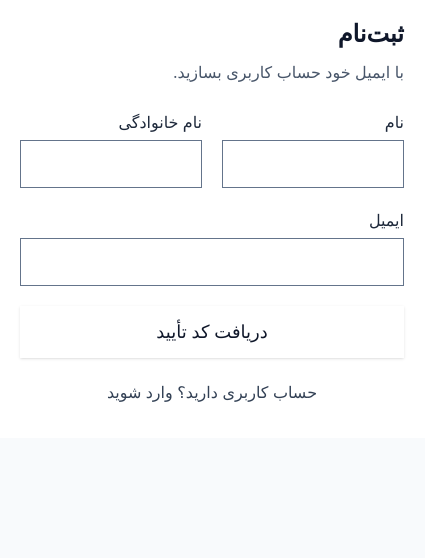
RegisterFlow › a 429 on resend holds «ارسال مجدد کد» for retry_after seconds
Later steps or results of the test are not shown.
Type "نیما" into the field labelled "نام" at (313, 164), box [223,141,403,187]
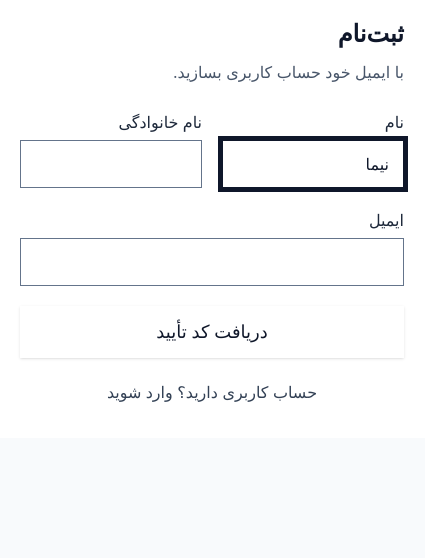
Type "رضایی" into the field labelled "نام خانوادگی" at (111, 164), box [21,141,201,187]
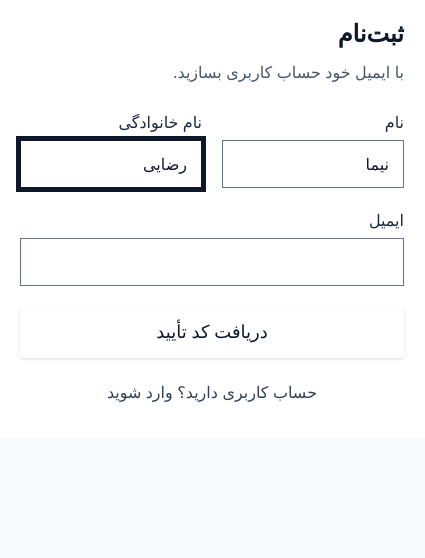
Type "new@example.com" into the field labelled "ایمیل" at (212, 262), box [21,239,403,285]
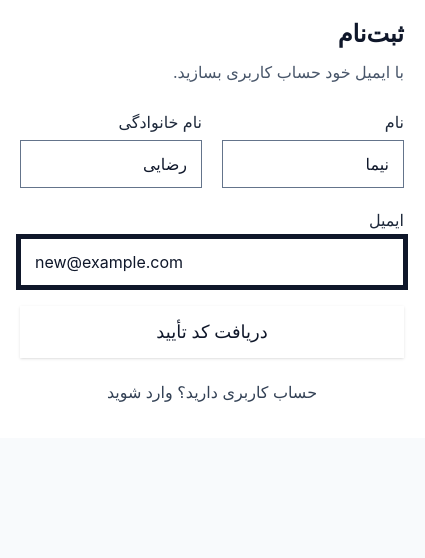
Click the button "دریافت کد تأیید" at (212, 332), box [20,306,404,358]
Wait 120000 ms
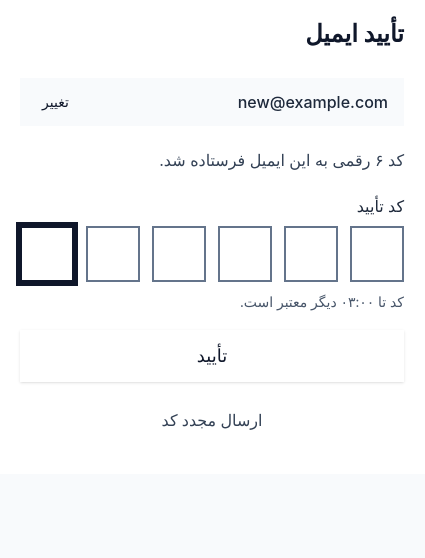
Check: the heading "تأیید ایمیل" is shown, box [305,19,404,48]
Click the button "ارسال مجدد کد" at (212, 420), box [20,398,404,442]
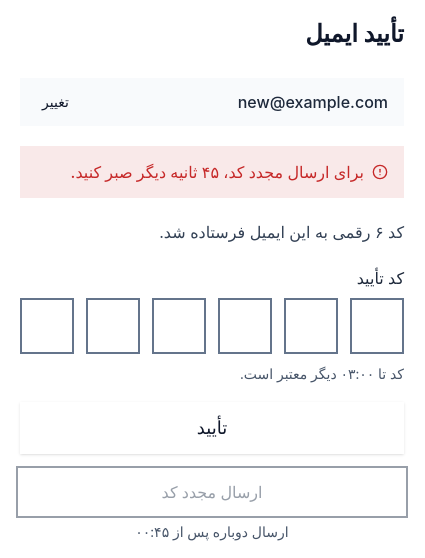
Check: the message reads "برای ارسال مجدد کد، ۴۵ ثانیه دیگر صبر کنید.", box [70,162,364,182]
Click the button "ارسال مجدد کد" at (212, 492), box [20,470,404,514]
Wait 45000 ms
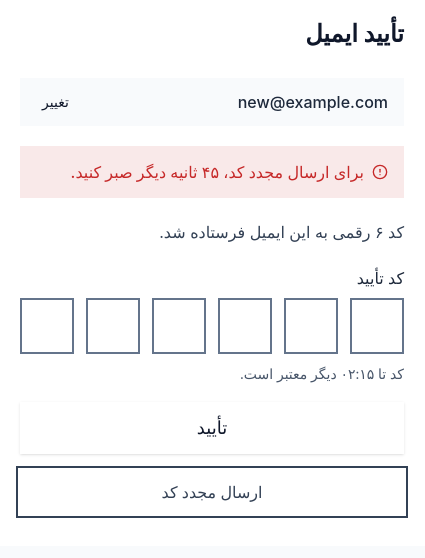
Check: the element named "کد تأیید" is shown, box [20,298,404,354]
